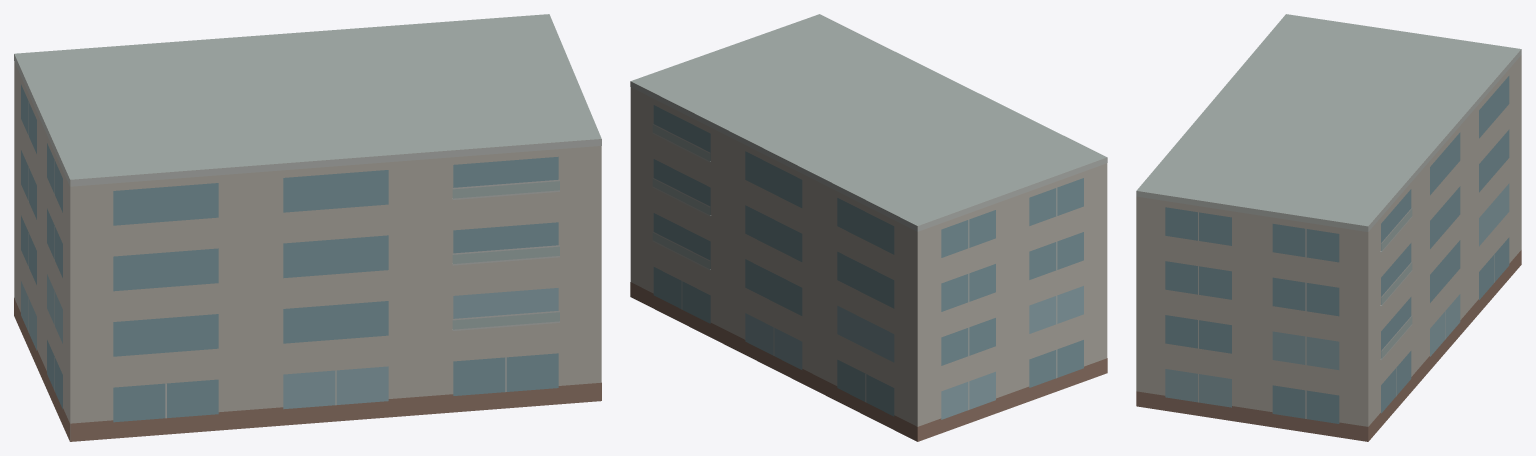
Rendered from survey-upis-32772297.glb.
The picture shows the model from 3 angles, left to right: view 1: azimuth 30°, elevation 25°; view 2: azimuth 150°, elevation 25°; view 3: azimuth 270°, elevation 25°; orthographic projection. The views are drawn at different scales.
Parts seen in each view (by area): view 1: survey-upis-32772297.tmp; view 2: survey-upis-32772297.tmp; view 3: survey-upis-32772297.tmp.
Boxes of the visible parts, <box> form: survey-upis-32772297.tmp: <box>14,14,601,441</box>; survey-upis-32772297.tmp: <box>630,14,1107,441</box>; survey-upis-32772297.tmp: <box>1136,14,1521,441</box>.
Bounding box in the file's own units: 19.46 × 9.2 × 14.92.
